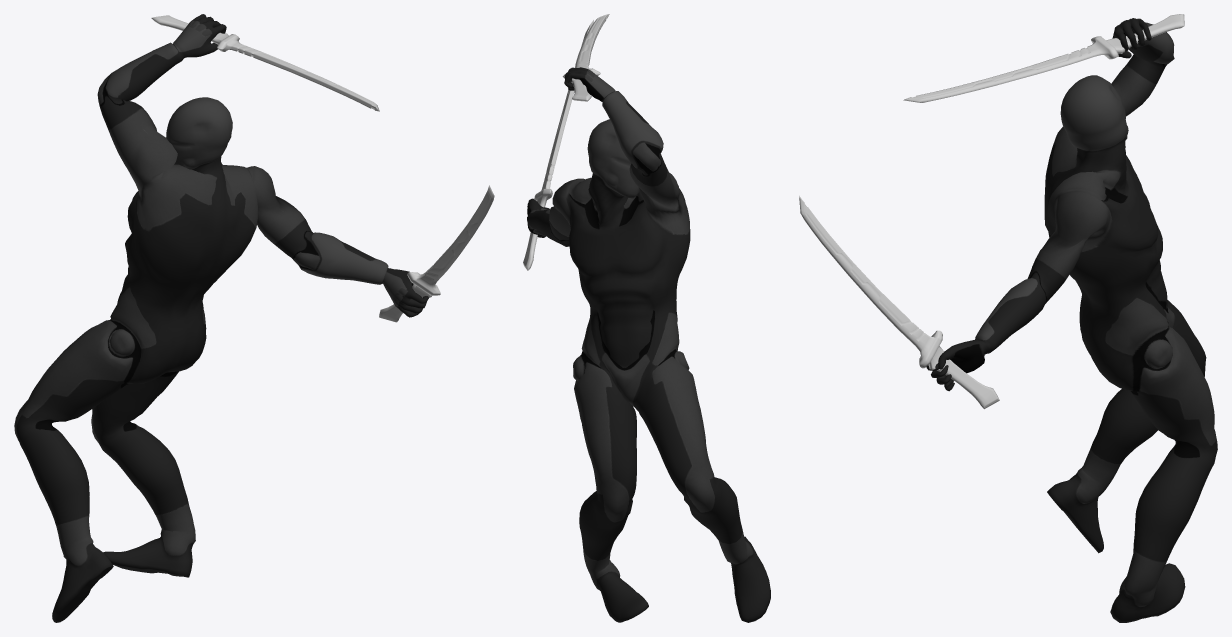
3 renders of one model, left to right at view 1: azimuth 30°, elevation 25°; view 2: azimuth 150°, elevation 25°; view 3: azimuth 270°, elevation 25°, orthographic. The views are drawn at different scales.
Visible parts, largest first — view 1: Cyborg_Ninja_Killer, Sword_l001, Sword_l; view 2: Cyborg_Ninja_Killer, Sword_l001, Sword_l; view 3: Cyborg_Ninja_Killer, Sword_l001, Sword_l.
Part boxes in pixels (x1,y1,x2,y2): Cyborg_Ninja_Killer: (14,14,428,622); Sword_l001: (379,185,494,322); Sword_l: (151,15,379,111); Cyborg_Ninja_Killer: (527,67,770,622); Sword_l001: (523,20,593,270); Sword_l: (562,14,609,101); Cyborg_Ninja_Killer: (926,18,1217,622); Sword_l001: (799,196,999,409); Sword_l: (903,14,1184,102).
Bounding box in the file's own units: 116 × 195 × 120.
